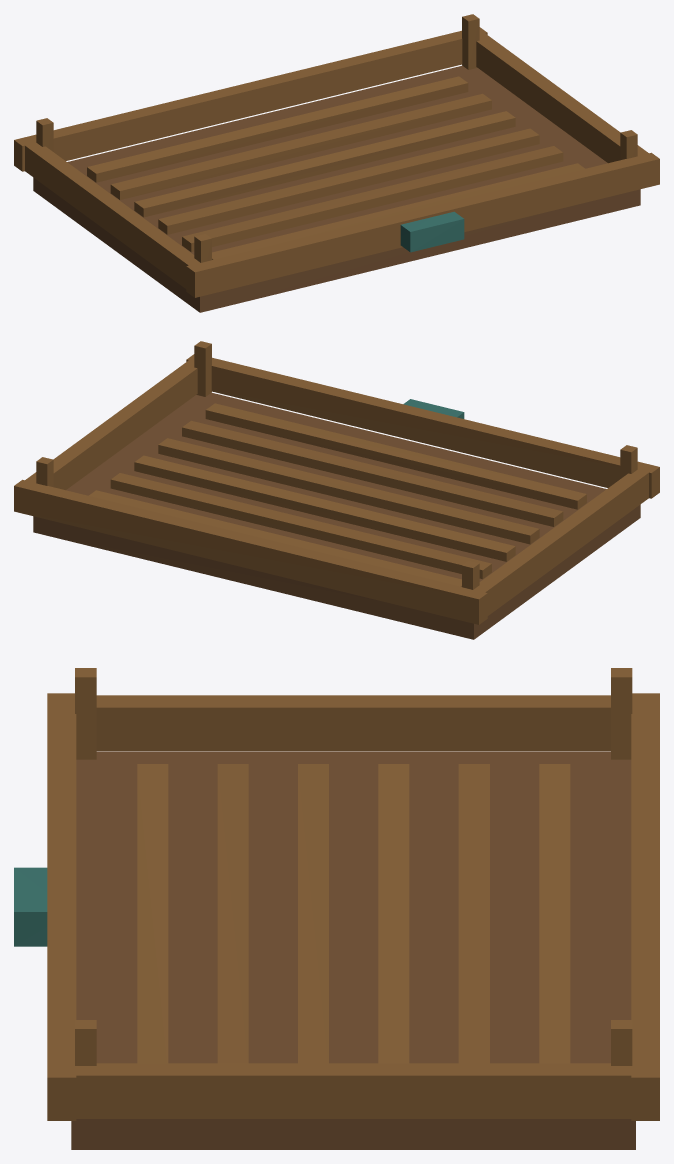
Rendered from Farm-Plot.glb.
The picture shows the model from 3 angles, top to bottom: view 1: azimuth 30°, elevation 25°; view 2: azimuth 150°, elevation 25°; view 3: azimuth 270°, elevation 25°; orthographic projection. The views are drawn at different scales.
Visible parts, largest first — view 1: wind-pump-static-farm-plot-timber-edge-mat, wind-pump-static-farm-plot-tilled-soil-mat, wind-pump-static-farm-plot-inlet-mat; view 2: wind-pump-static-farm-plot-timber-edge-mat, wind-pump-static-farm-plot-tilled-soil-mat, wind-pump-static-farm-plot-inlet-mat; view 3: wind-pump-static-farm-plot-timber-edge-mat, wind-pump-static-farm-plot-tilled-soil-mat, wind-pump-static-farm-plot-inlet-mat.
Boxes of the visible parts, left/top/right/bottom form: wind-pump-static-farm-plot-timber-edge-mat: left=14, top=14, right=659, bottom=297; wind-pump-static-farm-plot-tilled-soil-mat: left=33, top=65, right=640, bottom=312; wind-pump-static-farm-plot-inlet-mat: left=400, top=211, right=464, bottom=252; wind-pump-static-farm-plot-timber-edge-mat: left=14, top=341, right=659, bottom=624; wind-pump-static-farm-plot-tilled-soil-mat: left=33, top=392, right=640, bottom=639; wind-pump-static-farm-plot-inlet-mat: left=403, top=399, right=464, bottom=418; wind-pump-static-farm-plot-timber-edge-mat: left=47, top=668, right=659, bottom=1120; wind-pump-static-farm-plot-tilled-soil-mat: left=71, top=751, right=635, bottom=1149; wind-pump-static-farm-plot-inlet-mat: left=14, top=867, right=47, bottom=946.
Size of the model in its own units: 1.9 by 0.275 by 1.35.
